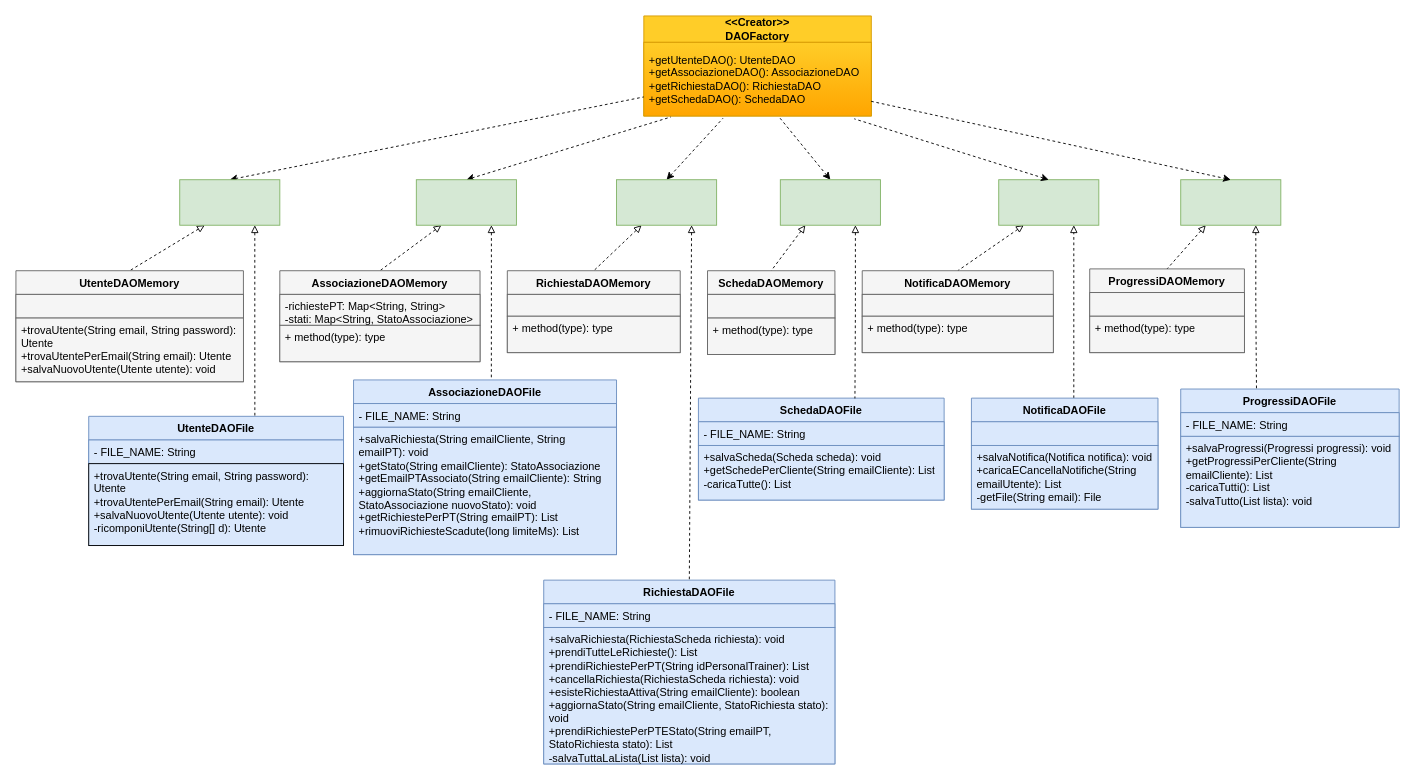
Some shapes in this 1415 by 783 pixel diagram are drawn without their labels. Here are the shapes that lost their labels. From the top down, the centre of each, then its label:
At point (229, 202): "«interface» UtenteDAO".
At point (465, 202): "«interface» AssociazioneDAO".
At point (666, 202): "«interface» RichiestaDAO".
At point (829, 202): "«interface» SchedaDAO".
At point (1048, 202): "«interface» NotificaDAO".
At point (1230, 202): "«interface» ProgressiDAO".
At point (129, 305): "- utenti: List<Utente>".
At point (593, 304): "-storage: List<RichiestaScheda>".
At point (771, 305): "storage: List<Scheda>".
At point (957, 304): "storage: Map<String, List<String>>".
At point (1166, 304): "storage: List<Progressi>".
At point (1064, 433): "- CARTELLA: String".
